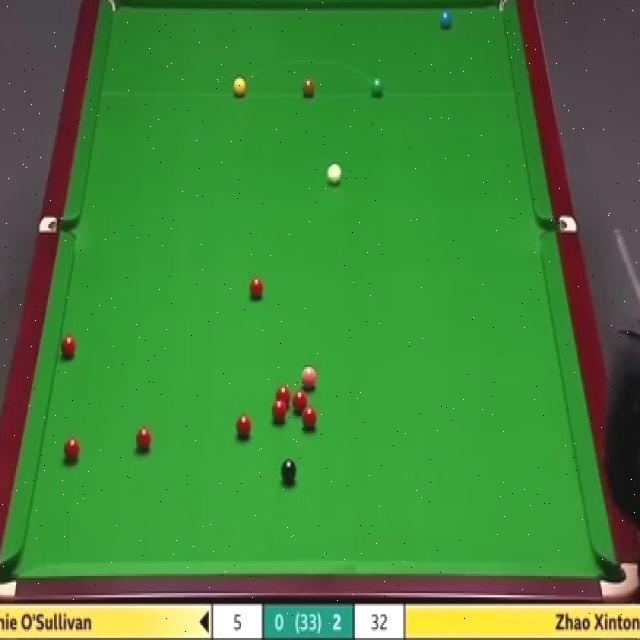black-ball: (280, 458, 298, 486)
blue-ball: (438, 4, 454, 30)
brown-ball: (302, 78, 316, 100)
green-ball: (370, 77, 384, 100)
pink-ball: (298, 366, 317, 392)
red-ball: (63, 432, 82, 462), (134, 424, 152, 450), (248, 275, 266, 301), (270, 400, 288, 424), (60, 334, 76, 360), (236, 414, 251, 441), (274, 385, 292, 407), (302, 405, 317, 430), (295, 388, 312, 409)
white-ball: (324, 160, 344, 189)
yellow-ball: (233, 76, 247, 99)
